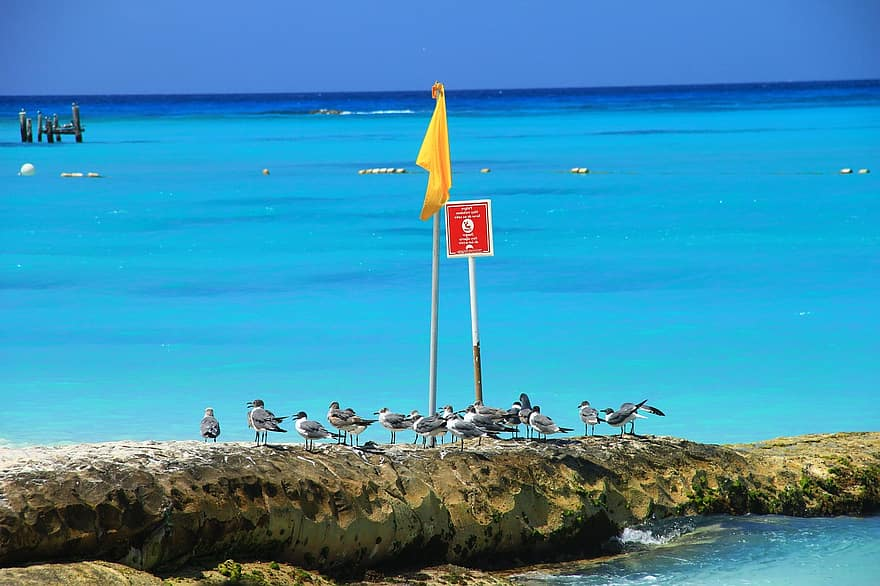Flag: (401, 75, 454, 226)
